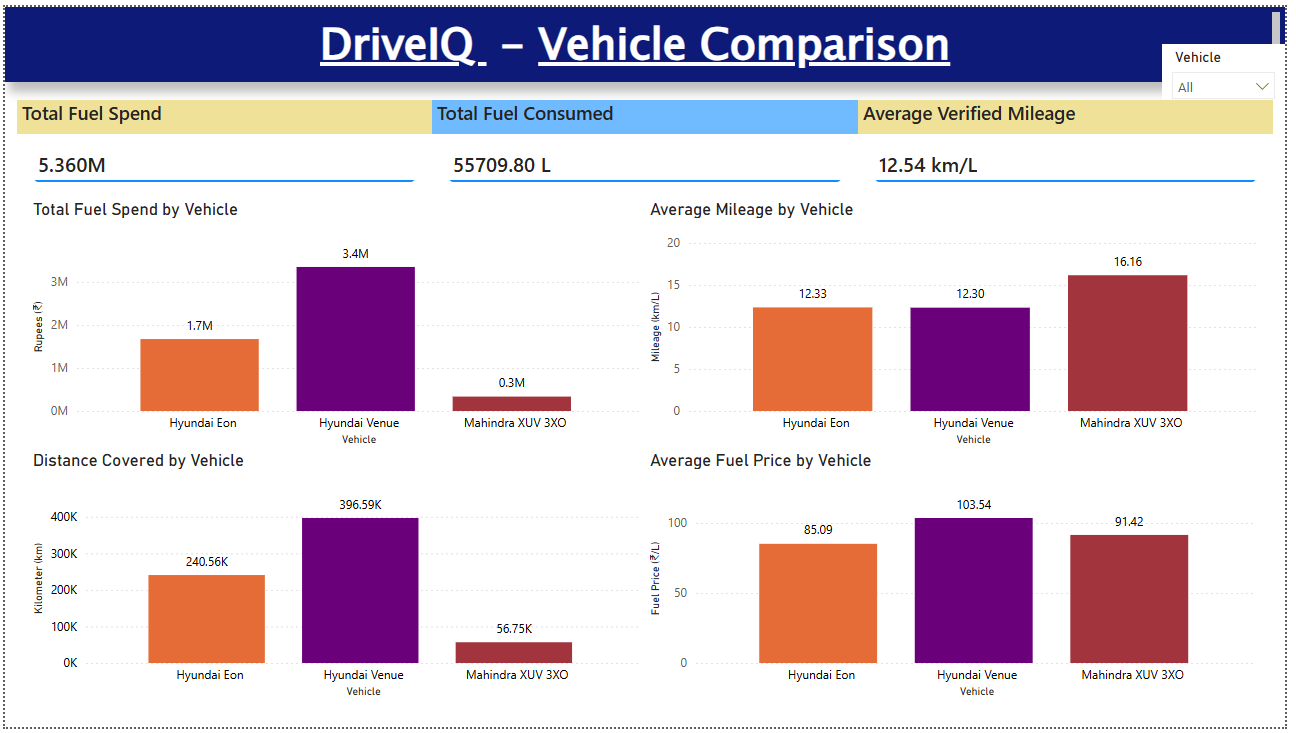

What the dashboard file says about the page in this screenshot:
{"tool":"powerbi","page":{"name":"Vehicle Comparison","canvas":[1280,720],"ordinal":2},"visuals":[{"type":"textbox","title":"DRIVEIQ","box":[0,0,1280,75],"z":0},{"type":"slicer","fields":{"Values":["public vehicles.vehicle_name"]},"box":[1156.7,36.7,123.3,76.7],"z":1000},{"type":"cardVisual","title":"Total Fuel Spend","fields":{"Data":["public fuel_logs.Total Fuel Spend"]},"box":[11.7,93.3,415,98.3],"z":2000},{"type":"cardVisual","title":"Total Fuel Consumed","fields":{"Data":["public fuel_logs.Total Litres Display"]},"box":[426.7,93.3,426,98.3],"z":3000},{"type":"cardVisual","title":"Average Verified Mileage","fields":{"Data":["public fuel_logs.Average Verified Mileage Display"]},"box":[853.3,93.3,415,98.3],"z":4000},{"type":"clusteredColumnChart","title":"Total Fuel Spend by Vehicle","fields":{"Category":["public vehicles.vehicle_name"],"Y":["public fuel_logs.Total Fuel Spend"]},"box":[23.3,191.7,616.7,251.7],"z":5000},{"type":"clusteredColumnChart","title":"Average Mileage by Vehicle","fields":{"Category":["public vehicles.vehicle_name"],"Y":["public fuel_logs.Average Verified Mileage"]},"box":[640,191.7,616.7,251.7],"z":6000},{"type":"clusteredColumnChart","title":"Distance Covered by Vehicle","fields":{"Category":["public vehicles.vehicle_name"],"Y":["public fuel_logs.Distance by Vehicle"]},"box":[23.3,443.3,616.7,251.7],"z":7000},{"type":"clusteredColumnChart","title":"Average Fuel Price by Vehicle","fields":{"Category":["public vehicles.vehicle_name"],"Y":["public fuel_logs.Average Fuel Price"]},"box":[640,443.3,616.7,251.7],"z":8000}]}

Visuals, with their boxes in screenshot pixels (x1, y1, x2, y2), scaled from the page's 1280x720 canvas onto the 1296x733 screenshot:
"DRIVEIQ" textbox: crop(0, 0, 1295, 76)
slicer - public vehicles.vehicle_name: crop(1171, 37, 1295, 115)
"Total Fuel Spend" cardVisual: crop(12, 95, 432, 195)
"Total Fuel Consumed" cardVisual: crop(432, 95, 863, 195)
"Average Verified Mileage" cardVisual: crop(864, 95, 1284, 195)
"Total Fuel Spend by Vehicle" clusteredColumnChart: crop(24, 195, 648, 451)
"Average Mileage by Vehicle" clusteredColumnChart: crop(648, 195, 1272, 451)
"Distance Covered by Vehicle" clusteredColumnChart: crop(24, 451, 648, 708)
"Average Fuel Price by Vehicle" clusteredColumnChart: crop(648, 451, 1272, 708)
